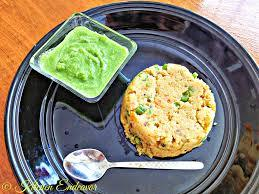upma: (123, 64, 221, 159)
